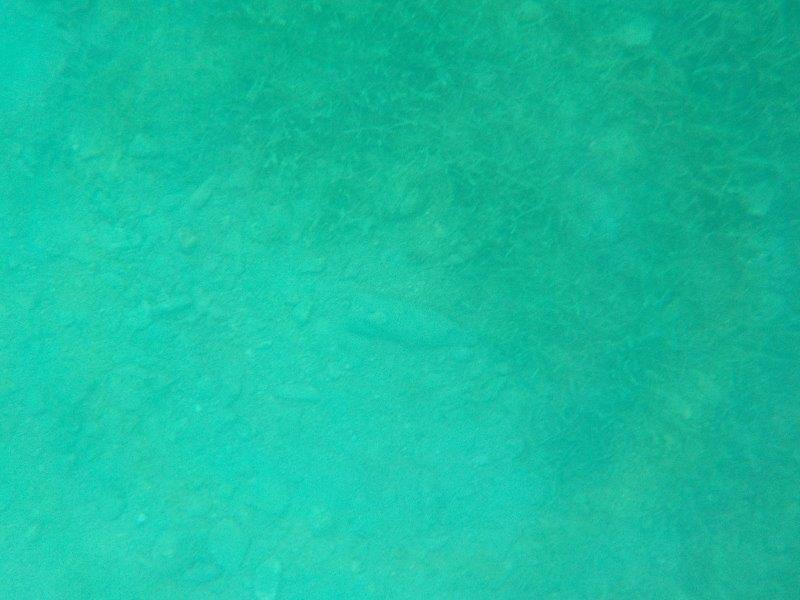bottle: (341, 285, 487, 355)
